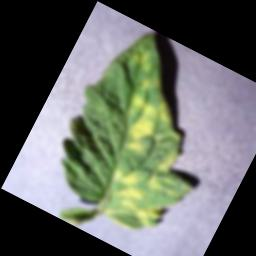Leaf_Mold: (92, 157, 176, 240), (110, 87, 179, 160), (136, 71, 166, 98), (128, 44, 156, 72), (155, 147, 179, 176)
